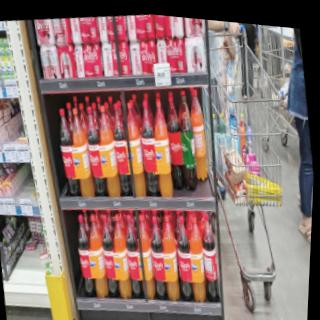beverage: (145, 97, 176, 198), (173, 87, 201, 190), (141, 207, 172, 300), (185, 87, 214, 185), (68, 213, 100, 300), (169, 210, 199, 302), (93, 210, 123, 298), (92, 99, 119, 196), (160, 92, 187, 187), (66, 105, 93, 197), (106, 39, 122, 80), (99, 42, 115, 78), (144, 39, 160, 75), (117, 41, 133, 76), (136, 41, 151, 78), (127, 39, 141, 75)
